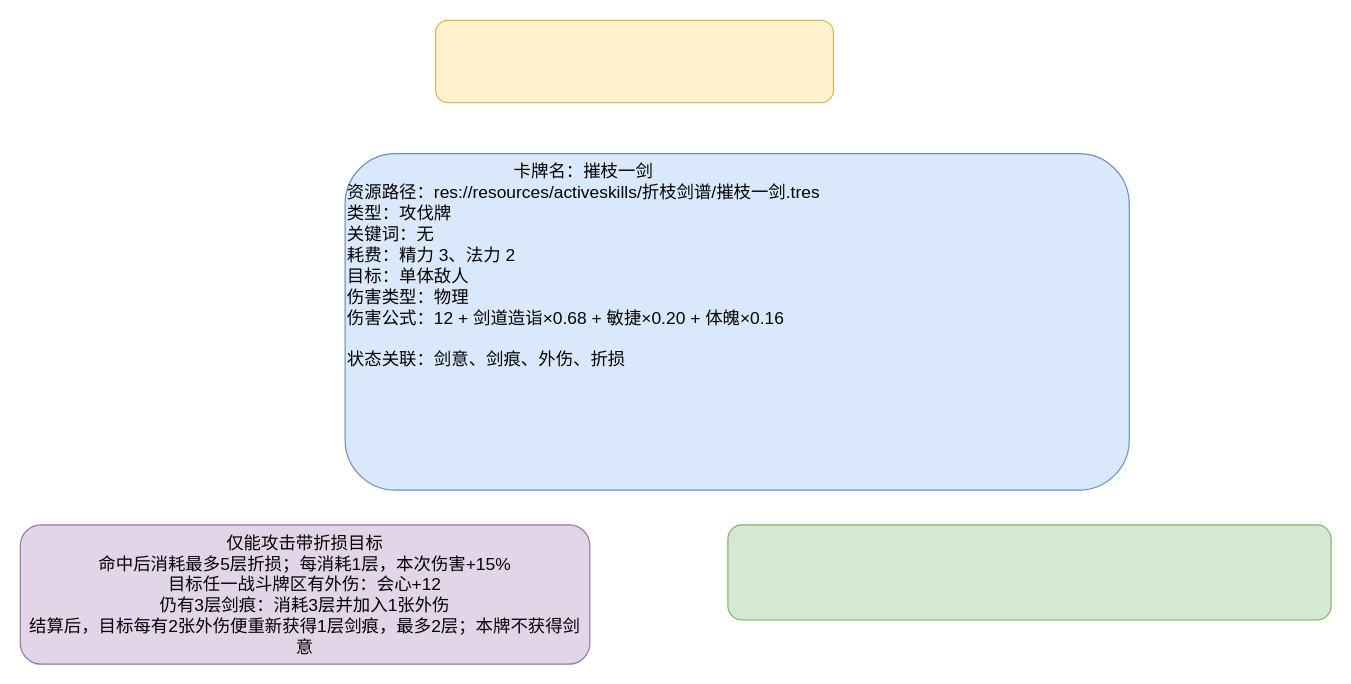
The diagram is 1351 pixels wide and 684 high, and some of its shapes have lost their labels. The shapes that lost their labels are listed below. From the top down, each one's box as (x1, y1, x2, y2) in pixels, then its label:
(434, 19, 833, 103): 摧枝一剑 折枝剑谱 / 摧枝卷 / 主修习得*1
(727, 524, 1331, 620): 定位：消耗折损打出高伤害 招式递进：点痕 → 裂筋 → 见骨 → 断络 → 绝命 命中后消耗折损提高伤害；结算后根据已有外伤重新施加少量剑痕，供后续招式使用
